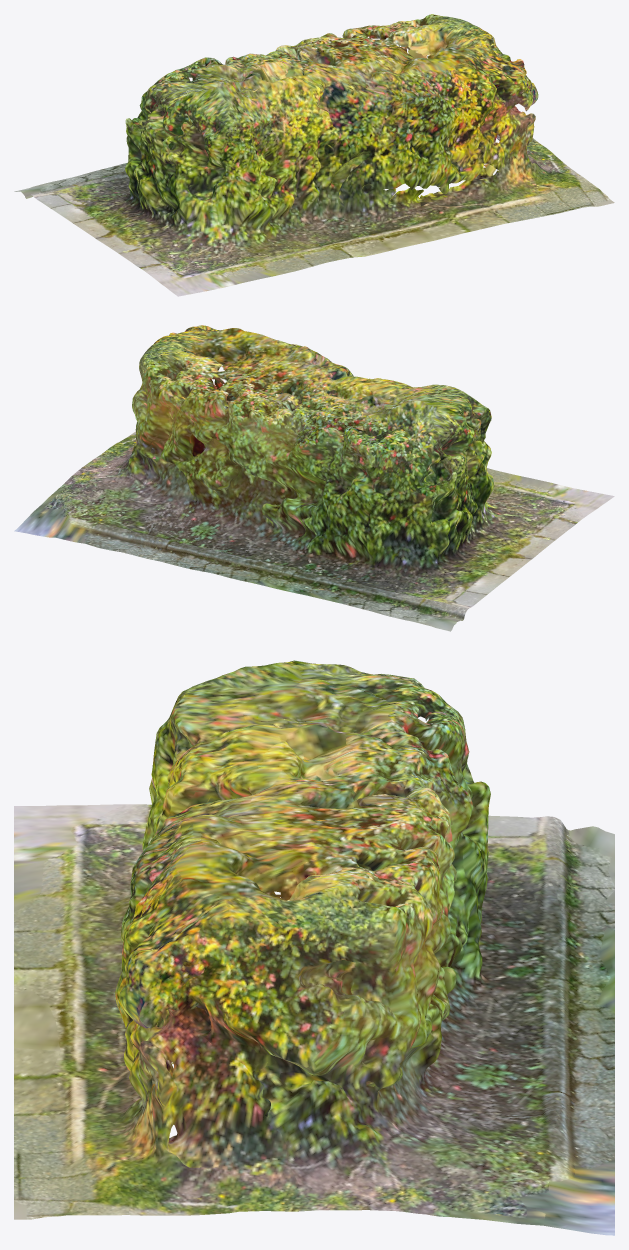
File: bush.glb
3 renders of one model, top to bottom at view 1: azimuth 30°, elevation 25°; view 2: azimuth 150°, elevation 25°; view 3: azimuth 270°, elevation 25°, orthographic. The views are drawn at different scales.
Visible parts, largest first — view 1: Scene; view 2: Scene; view 3: Scene.
Part boxes in pixels (x1=…): Scene: x1=14, y1=14, x2=614, y2=296; Scene: x1=14, y1=325, x2=614, y2=631; Scene: x1=14, y1=660, x2=614, y2=1235.
Size of the model in its own units: 3.45 by 1.1 by 2.24.
1 material, 1 textured.
